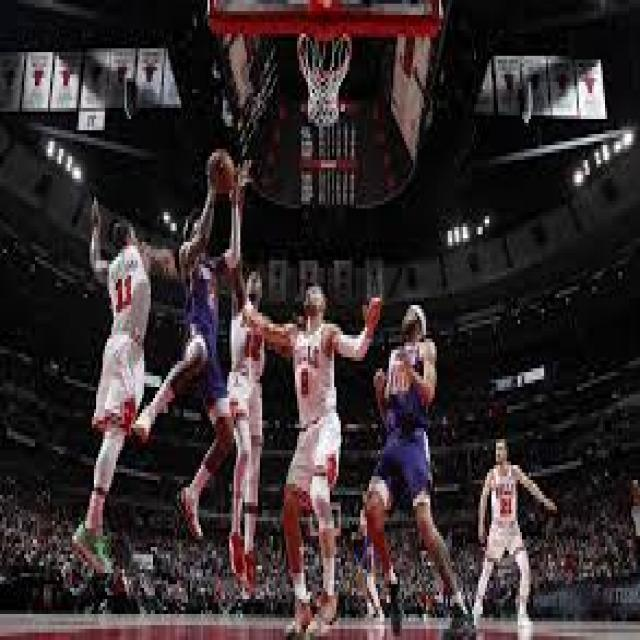rim: (210, 152, 236, 198)
